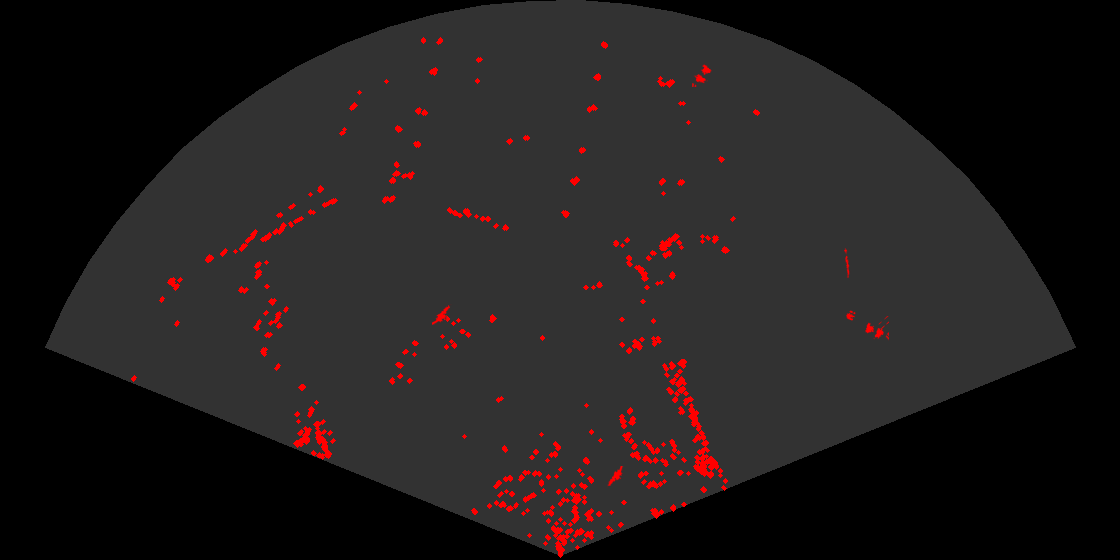ball: (845, 309, 857, 322)
cage: (864, 316, 889, 342), (692, 63, 713, 87)
chain: (843, 248, 851, 279)
frogman: (432, 304, 453, 325), (607, 466, 625, 489)
